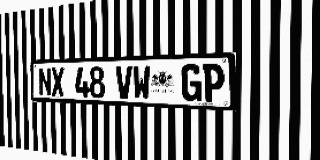4: (75, 67, 89, 98)
8: (89, 66, 105, 98)
G: (181, 64, 202, 102)
N: (39, 67, 51, 96)
P: (203, 63, 224, 102)
V: (116, 66, 132, 99)
W: (133, 65, 150, 100)
X: (51, 67, 65, 97)
